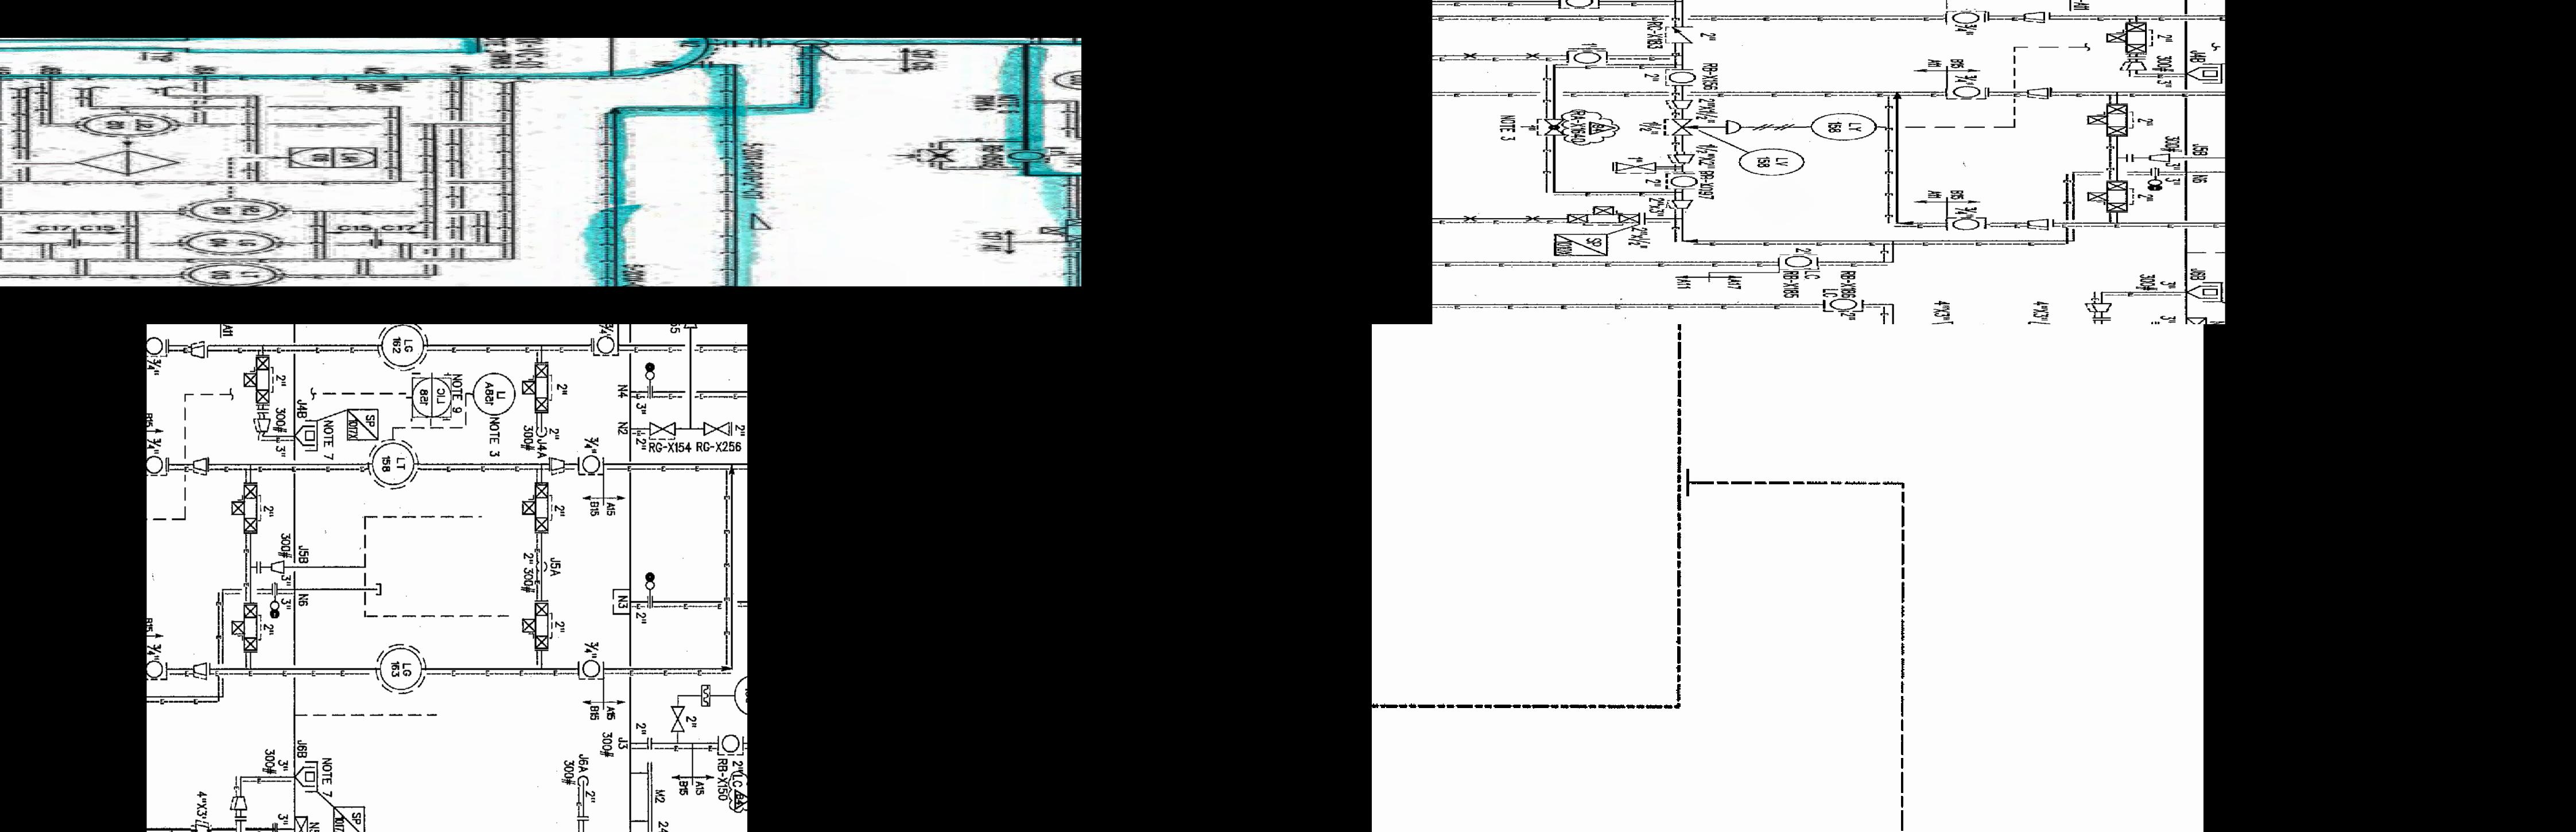2 WAY VALVE: (237, 346, 278, 405), (227, 476, 263, 540), (519, 356, 555, 415), (232, 596, 263, 656), (521, 597, 550, 656), (521, 481, 550, 537), (1030, 218, 1081, 241)
BLIND SPADE OPEN: (1045, 246, 1081, 256)
CONCENTRIC REDUCER: (187, 453, 215, 479), (187, 653, 212, 683), (187, 336, 207, 361), (268, 553, 286, 578), (228, 793, 251, 811), (547, 455, 567, 474), (251, 415, 269, 435), (189, 819, 210, 832), (1081, 151, 1089, 164)
CONNECTOR: (534, 422, 549, 440)
DCS ACCESSIBLE: (276, 146, 383, 171), (404, 373, 450, 418)
DIAPHRAGM SEAL: (695, 674, 715, 714)
END FLANGED: (54, 238, 87, 251), (358, 238, 394, 248), (570, 812, 596, 824), (251, 558, 264, 578)
FIELD INSTRUMENT: (172, 228, 289, 256), (371, 638, 427, 696), (179, 199, 289, 225), (74, 112, 182, 138), (366, 440, 421, 492), (172, 263, 286, 287), (375, 325, 432, 373), (470, 373, 517, 417), (590, 333, 619, 358), (577, 450, 601, 479), (718, 732, 743, 757), (1055, 69, 1081, 92), (1004, 149, 1048, 162), (578, 656, 603, 679), (146, 333, 169, 358), (146, 450, 169, 474), (146, 660, 166, 681)
GATE VALVE: (664, 697, 690, 738), (647, 417, 678, 438), (701, 418, 733, 438), (678, 325, 700, 338)
GLOBE VALVE: (918, 148, 959, 164)
HARDWIRED INTERLOCK PRIMARY.: (72, 149, 191, 177)
REVISION TRIANGLE: (729, 784, 747, 819)
SPECIAL PIPING ITEM: (342, 404, 384, 445), (325, 801, 370, 832)
SPECTACLE BLIND OPEN: (266, 584, 286, 625), (642, 354, 659, 404), (641, 573, 660, 607), (266, 814, 283, 832), (1081, 166, 1088, 192)
